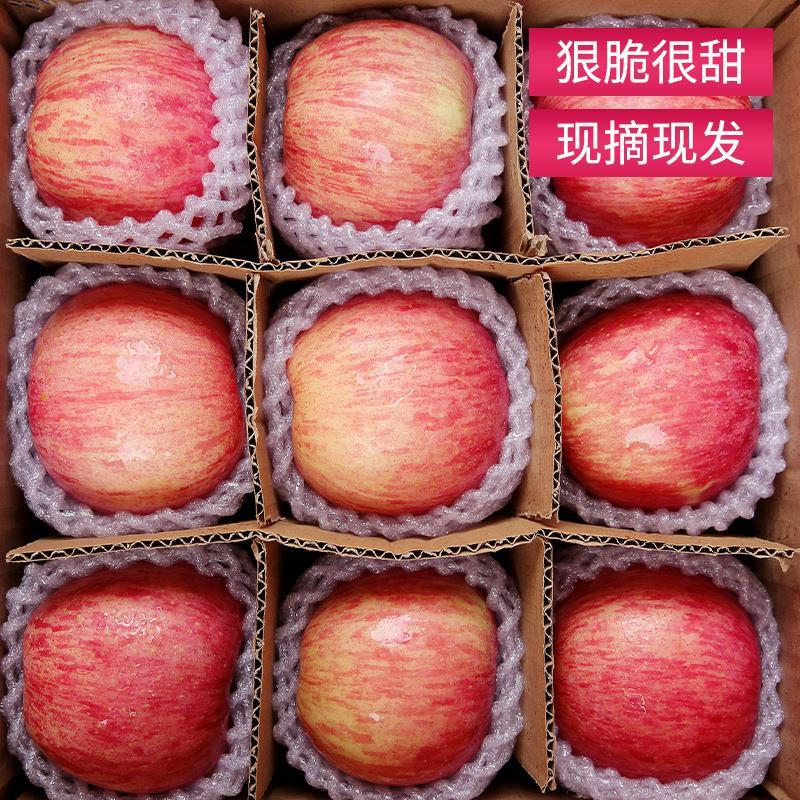apple: (7, 559, 250, 800), (561, 560, 794, 792), (281, 293, 509, 513), (555, 278, 766, 512), (27, 24, 246, 244), (292, 569, 511, 788), (28, 284, 241, 509), (554, 572, 767, 781), (280, 20, 478, 230)
